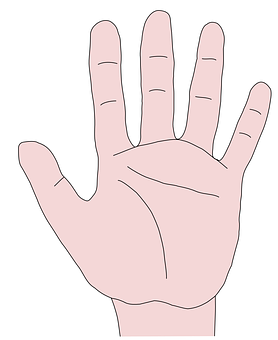palm: (97, 157, 228, 291)
